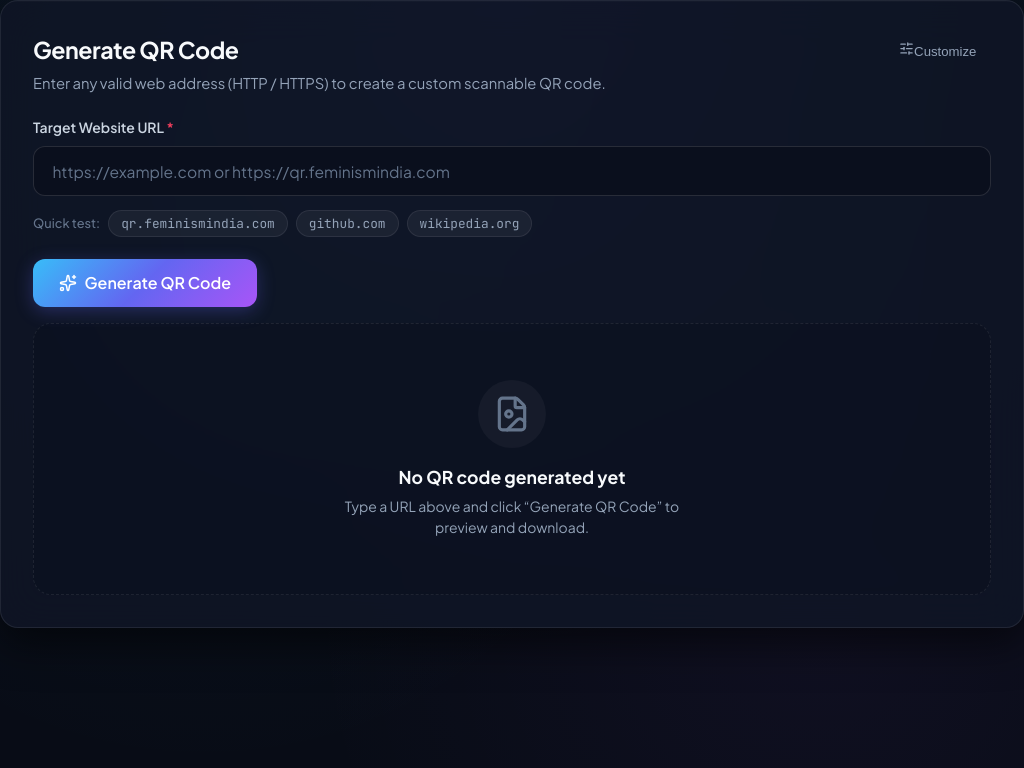
Test: QRGenerator Component › toggles customize drawer and displays color inputs
What coordinates should you click on to do the following:
click the button "Customize"
I would click on:
 (938, 50)
Its box is [884,33,991,67].
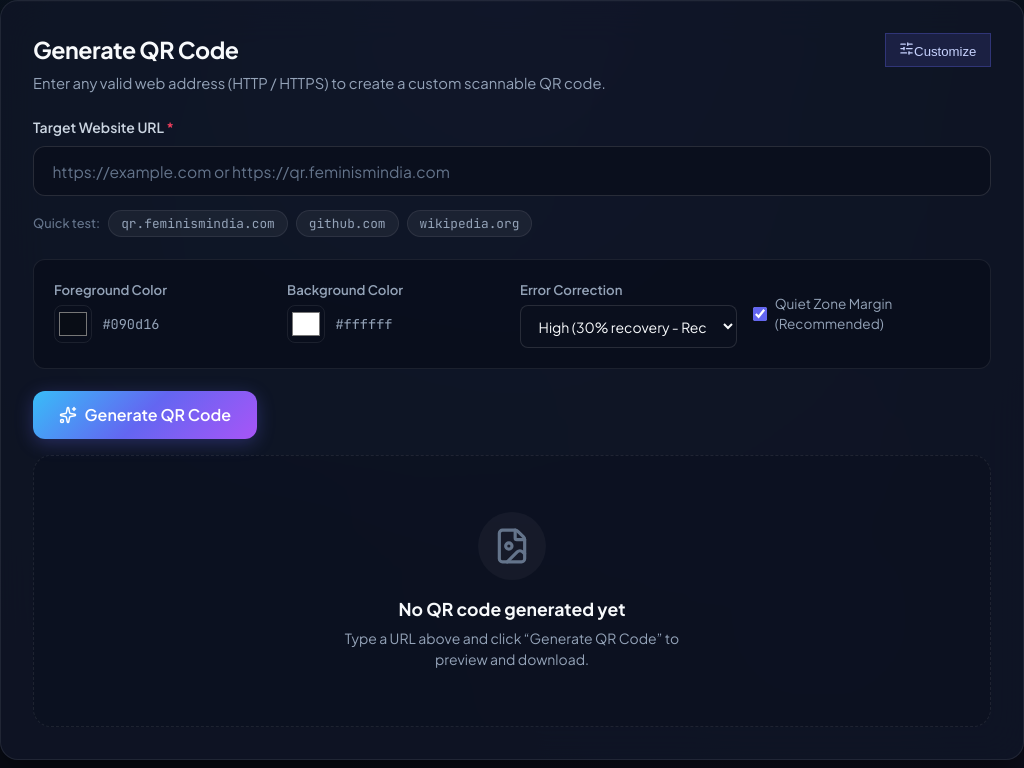
expect the colour field labelled "Foreground Color" is shown: met, box [54,306,92,344]
expect the colour field labelled "Background Color" is shown: met, box [287,306,325,344]
expect the dropdown labelled "Error Correction" is shown: met, box [520,306,737,348]
